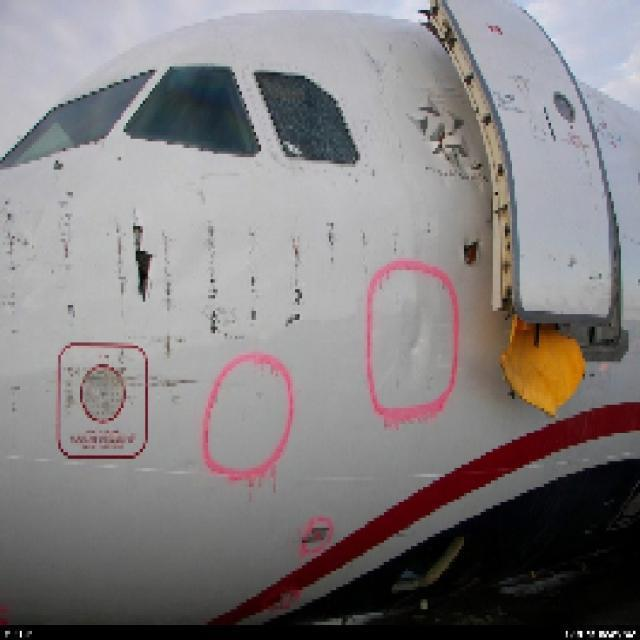crack: (125, 221, 159, 301), (456, 230, 491, 273)
dent: (397, 304, 442, 369)
